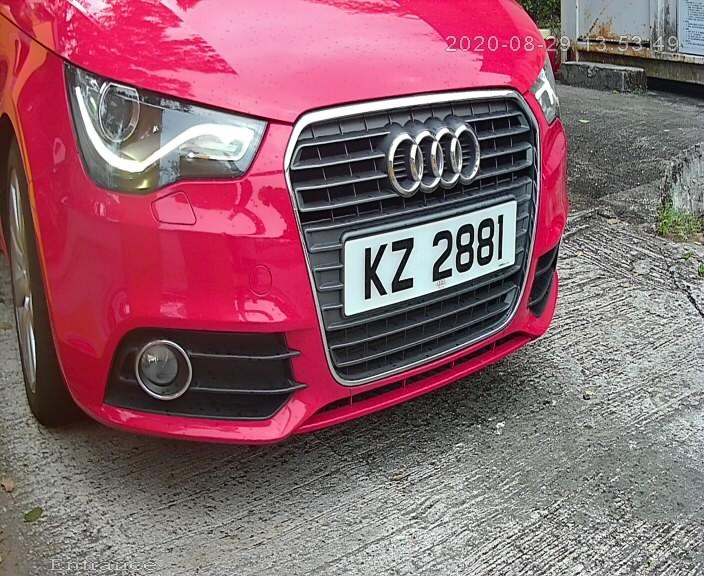License Plate: (330, 181, 533, 331)
